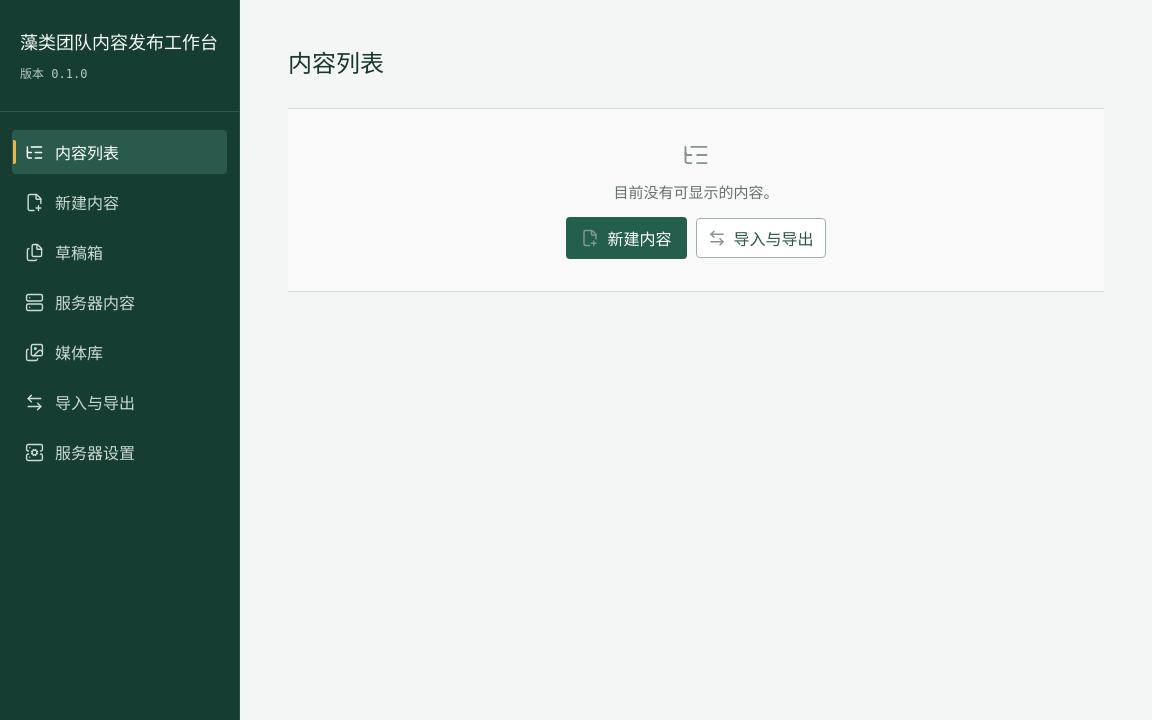
Test case: keeps server content visible and disables deletion after an SSH failure
The width and height of the screenshot is (1152, 720).
Click the button "服务器内容": (120, 302) [12,280,227,324]
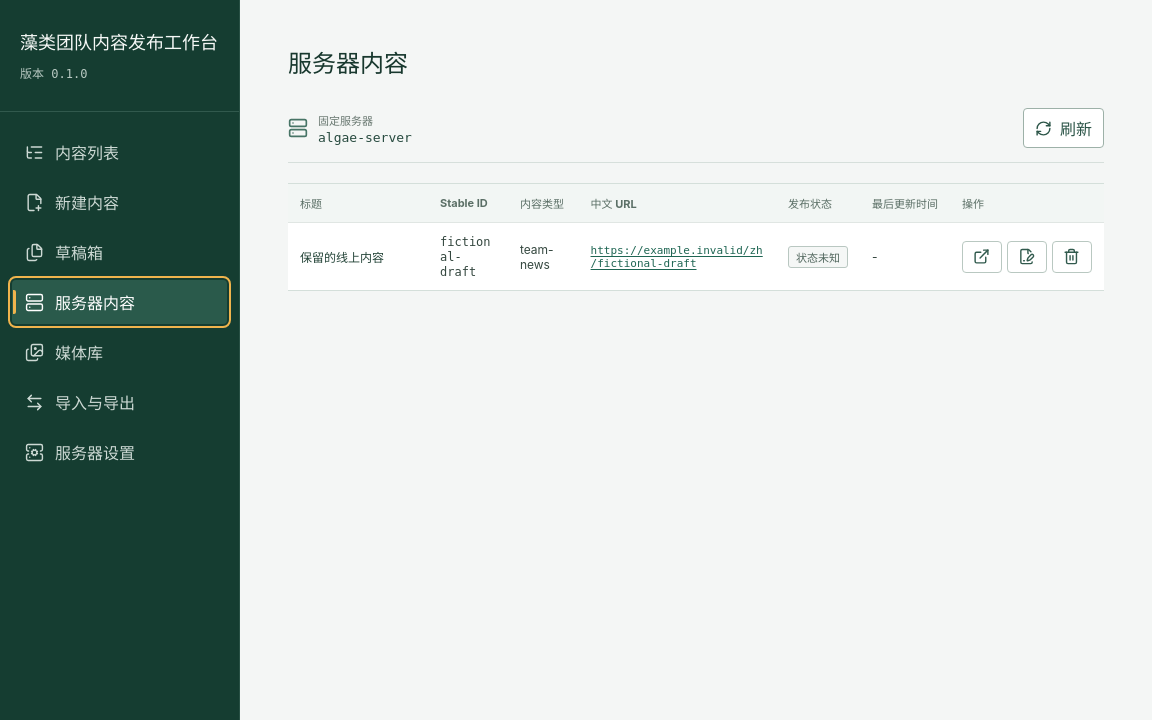
Click the button named "删除 保留的线上内容": (1072, 257) [1052,241,1092,273]
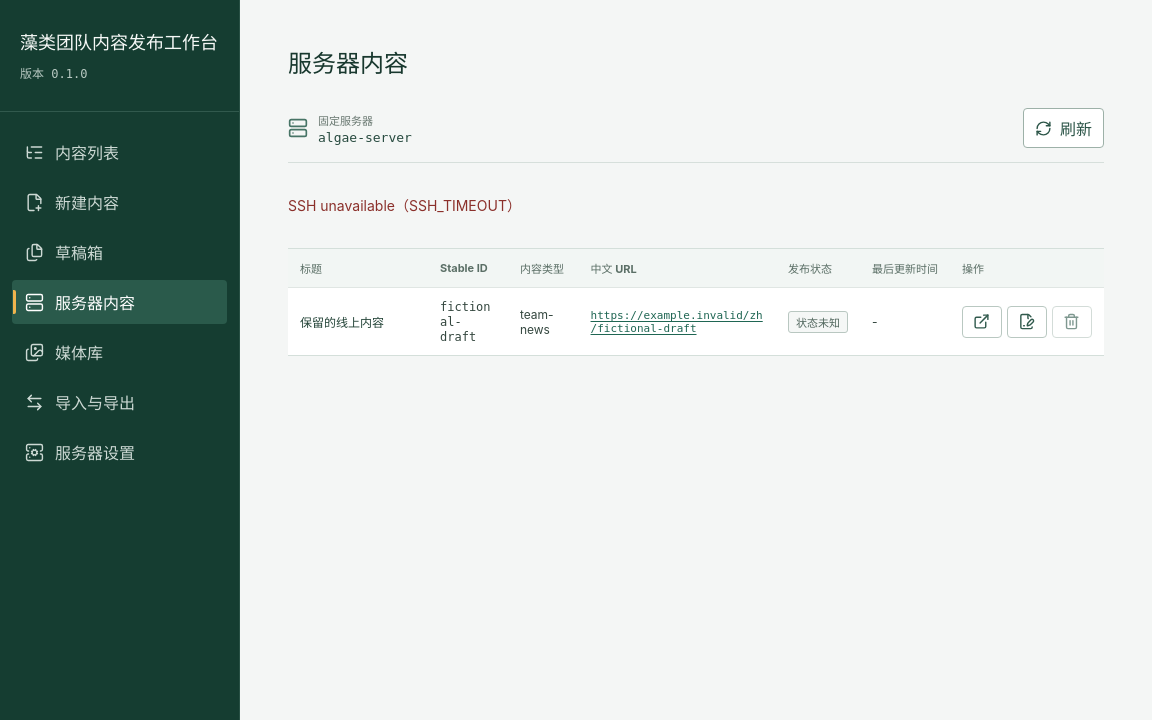
Expected: the text "保留的线上内容" is shown, [288,288,428,355]
Expected: the message shows "SSH unavailable", [288,197,521,214]
Expected: the button named "删除 保留的线上内容" is disabled, [1052,306,1092,338]
